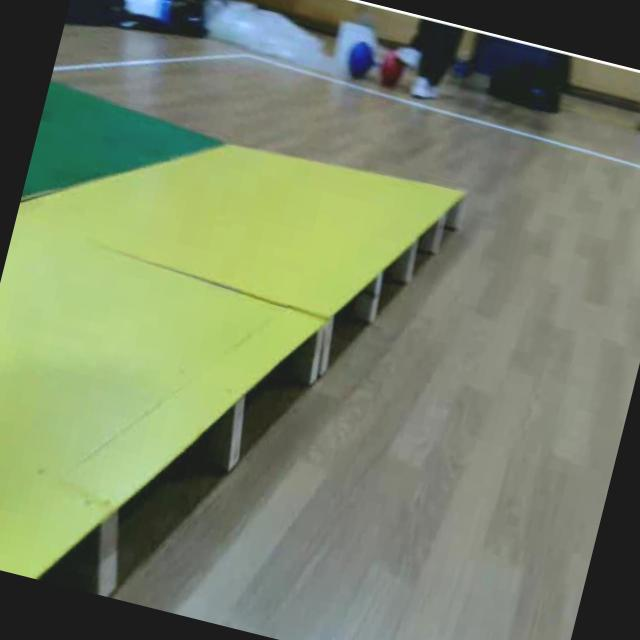blue_ball: (342, 40, 379, 85)
red_ball: (374, 52, 408, 92)
